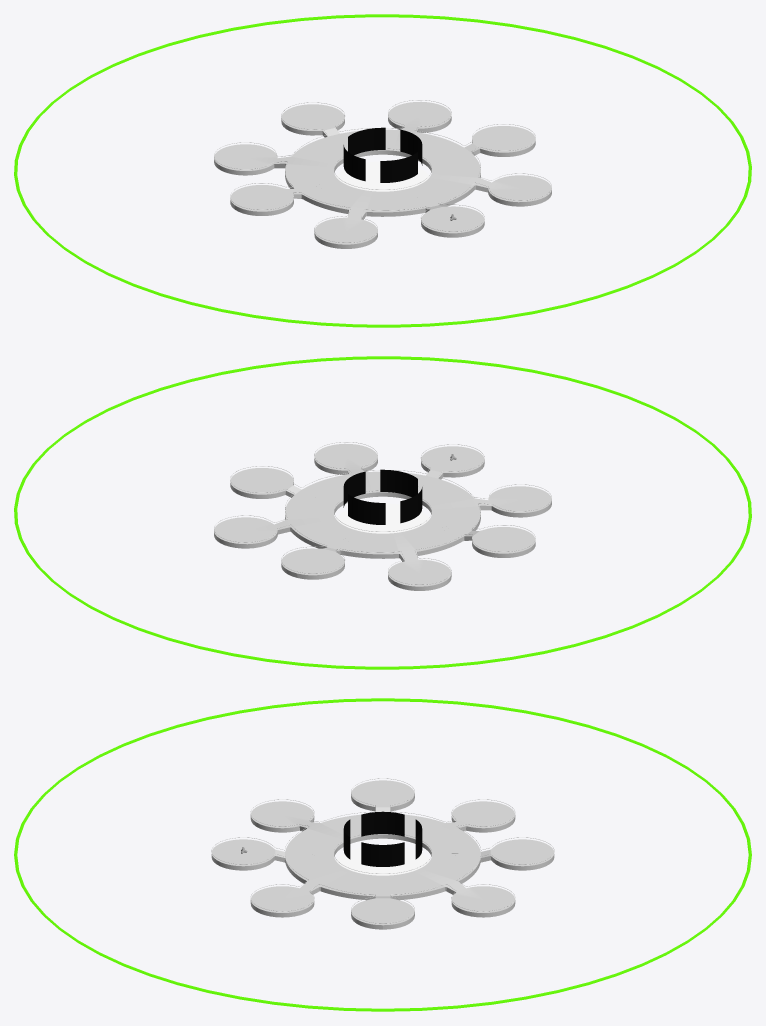
3 renders of one model, top to bottom at view 1: azimuth 30°, elevation 25°; view 2: azimuth 150°, elevation 25°; view 3: azimuth 270°, elevation 25°, orthographic.
Parts seen in each view (by area): view 1: Floor, __WORLD_RING_H__, BézierCurve.001, Circle, __SCREEN__s, __SCREEN__n, __SCREEN__w; view 2: Floor, __WORLD_RING_H__, BézierCurve.001, Circle, __SCREEN__n, __SCREEN__s, __SCREEN__w; view 3: Floor, __WORLD_RING_H__, BézierCurve.001, Circle, __SCREEN__w, __SCREEN__e.
Boxes of the visible parts, x1,y1,x2,y2 form: Floor: (214, 101, 551, 248); __WORLD_RING_H__: (14, 14, 751, 327); BézierCurve.001: (214, 100, 551, 242); Circle: (336, 161, 429, 191); __SCREEN__s: (380, 152, 417, 182); __SCREEN__n: (348, 127, 385, 155); __SCREEN__w: (343, 145, 365, 181); Floor: (214, 443, 551, 590); __WORLD_RING_H__: (14, 356, 751, 669); BézierCurve.001: (214, 442, 551, 584); Circle: (336, 503, 429, 533); __SCREEN__n: (348, 494, 385, 524); __SCREEN__s: (380, 469, 417, 497); __SCREEN__w: (400, 487, 422, 523); Floor: (211, 780, 554, 929); __WORLD_RING_H__: (14, 698, 751, 1011); BézierCurve.001: (211, 778, 554, 923); Circle: (336, 847, 429, 875); __SCREEN__w: (361, 811, 404, 836); __SCREEN__e: (361, 842, 404, 866).
Bounding box in the file's own units: 301 × 17 × 301.
